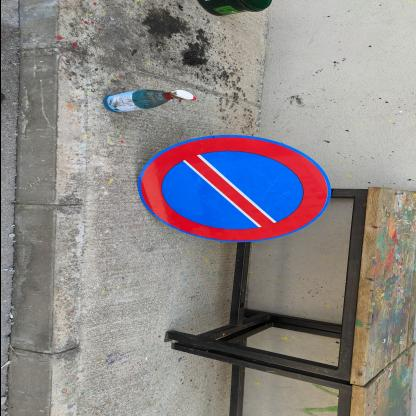No Waiting: (136, 136, 332, 244)
